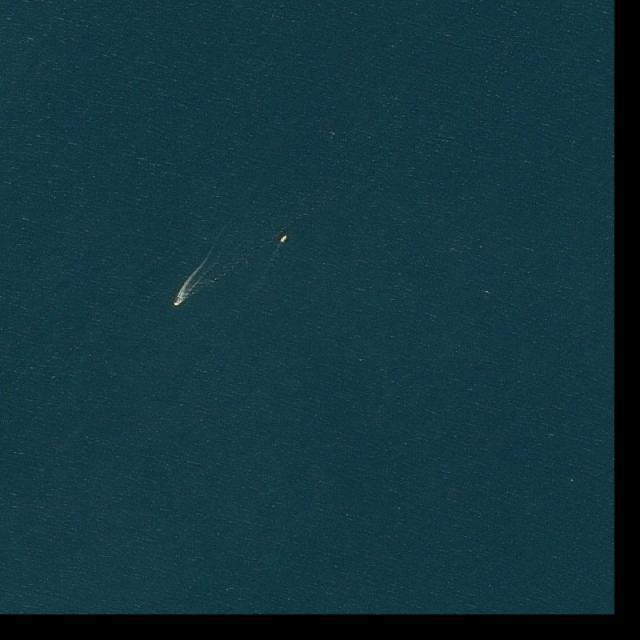ship: (173, 296, 185, 309), (280, 234, 288, 244)
